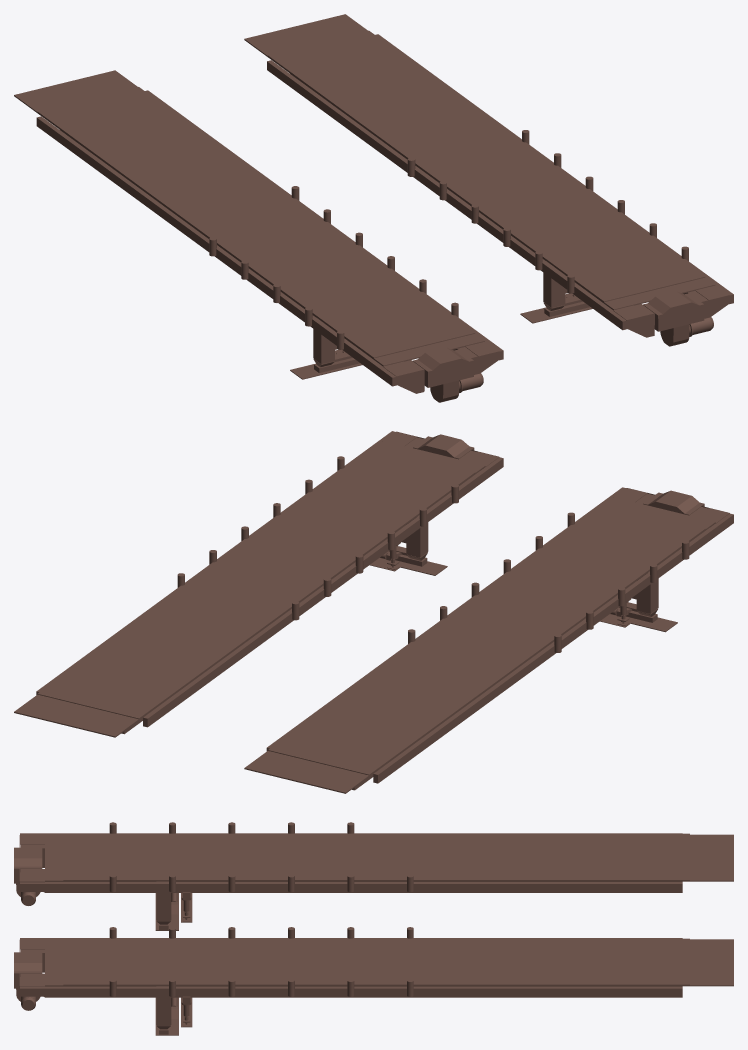
The model's file is GCC-AAV-13220-30.nwd(70).fbx.
The picture shows the model from 3 angles, top to bottom: view 1: azimuth 30°, elevation 25°; view 2: azimuth 150°, elevation 25°; view 3: azimuth 270°, elevation 25°; orthographic projection. The views are drawn at different scales.
Parts seen in each view (by area): view 1: BOX 6 of SUBEQUIPMENT 6 of EQUIPMENT /733-U-303, BOX 6 of SUBEQUIPMENT 6 of EQUIPMENT /733-U-304, BOX 3 of SUBEQUIPMENT 6 of EQUIPMENT /733-U-303, BOX 3 of SUBEQUIPMENT 6 of EQUIPMENT /733-U-304, BOX 5 of SUBEQUIPMENT 6 of EQUIPMENT /733-U-303, BOX 5 of SUBEQUIPMENT 6 of EQUIPMENT /733-U-304, EXTRUSION 3 of SUBEQUIPMENT 6 of EQUIPMENT /733-U-304, EXTRUSION 3 of SUBEQUIPMENT 6 of EQUIPMENT /733-U-303, BOX 4 of SUBEQUIPMENT 6 of EQUIPMENT /733-U-304, BOX 4 of SUBEQUIPMENT 6 of EQUIPMENT /733-U-303; view 2: BOX 6 of SUBEQUIPMENT 6 of EQUIPMENT /733-U-303, BOX 6 of SUBEQUIPMENT 6 of EQUIPMENT /733-U-304, BOX 3 of SUBEQUIPMENT 6 of EQUIPMENT /733-U-303, BOX 3 of SUBEQUIPMENT 6 of EQUIPMENT /733-U-304, BOX 5 of SUBEQUIPMENT 6 of EQUIPMENT /733-U-303, BOX 5 of SUBEQUIPMENT 6 of EQUIPMENT /733-U-304, BOX 4 of SUBEQUIPMENT 6 of EQUIPMENT /733-U-304, BOX 4 of SUBEQUIPMENT 6 of EQUIPMENT /733-U-303, EXTRUSION 3 of SUBEQUIPMENT 6 of EQUIPMENT /733-U-303, EXTRUSION 3 of SUBEQUIPMENT 6 of EQUIPMENT /733-U-304, BOX 5 of SUBEQUIPMENT 2 of EQUIPMENT /733-U-304, BOX 5 of SUBEQUIPMENT 2 of EQUIPMENT /733-U-303; view 3: BOX 6 of SUBEQUIPMENT 6 of EQUIPMENT /733-U-303, BOX 6 of SUBEQUIPMENT 6 of EQUIPMENT /733-U-304, BOX 4 of SUBEQUIPMENT 6 of EQUIPMENT /733-U-304, BOX 4 of SUBEQUIPMENT 6 of EQUIPMENT /733-U-303, BOX 5 of SUBEQUIPMENT 6 of EQUIPMENT /733-U-304, BOX 5 of SUBEQUIPMENT 6 of EQUIPMENT /733-U-303, BOX 2 of SUBEQUIPMENT 6 of EQUIPMENT /733-U-304, BOX 2 of SUBEQUIPMENT 6 of EQUIPMENT /733-U-303, EXTRUSION 3 of SUBEQUIPMENT 6 of EQUIPMENT /733-U-304, EXTRUSION 3 of SUBEQUIPMENT 6 of EQUIPMENT /733-U-303, BOX 3 of SUBEQUIPMENT 6 of EQUIPMENT /733-U-304, BOX 3 of SUBEQUIPMENT 6 of EQUIPMENT /733-U-303 (+2 smaller).
Part boxes in pixels (<box>): BOX 6 of SUBEQUIPMENT 6 of EQUIPMENT /733-U-303: <box>37,87,475,358</box>; BOX 6 of SUBEQUIPMENT 6 of EQUIPMENT /733-U-304: <box>267,30,705,301</box>; BOX 3 of SUBEQUIPMENT 6 of EQUIPMENT /733-U-303: <box>36,116,396,386</box>; BOX 3 of SUBEQUIPMENT 6 of EQUIPMENT /733-U-304: <box>267,60,626,330</box>; BOX 5 of SUBEQUIPMENT 6 of EQUIPMENT /733-U-303: <box>14,70,484,366</box>; BOX 5 of SUBEQUIPMENT 6 of EQUIPMENT /733-U-304: <box>244,14,715,310</box>; EXTRUSION 3 of SUBEQUIPMENT 6 of EQUIPMENT /733-U-304: <box>643,291,704,331</box>; EXTRUSION 3 of SUBEQUIPMENT 6 of EQUIPMENT /733-U-303: <box>413,347,473,387</box>; BOX 4 of SUBEQUIPMENT 6 of EQUIPMENT /733-U-304: <box>375,34,733,304</box>; BOX 4 of SUBEQUIPMENT 6 of EQUIPMENT /733-U-303: <box>145,90,503,360</box>; BOX 6 of SUBEQUIPMENT 6 of EQUIPMENT /733-U-303: <box>268,503,705,775</box>; BOX 6 of SUBEQUIPMENT 6 of EQUIPMENT /733-U-304: <box>37,447,475,719</box>; BOX 3 of SUBEQUIPMENT 6 of EQUIPMENT /733-U-303: <box>373,513,733,783</box>; BOX 3 of SUBEQUIPMENT 6 of EQUIPMENT /733-U-304: <box>143,457,503,727</box>; BOX 5 of SUBEQUIPMENT 6 of EQUIPMENT /733-U-303: <box>244,497,715,793</box>; BOX 5 of SUBEQUIPMENT 6 of EQUIPMENT /733-U-304: <box>14,441,485,737</box>; BOX 4 of SUBEQUIPMENT 6 of EQUIPMENT /733-U-304: <box>36,431,395,694</box>; BOX 4 of SUBEQUIPMENT 6 of EQUIPMENT /733-U-303: <box>266,487,625,751</box>; EXTRUSION 3 of SUBEQUIPMENT 6 of EQUIPMENT /733-U-303: <box>643,490,704,515</box>; EXTRUSION 3 of SUBEQUIPMENT 6 of EQUIPMENT /733-U-304: <box>413,434,474,459</box>; BOX 5 of SUBEQUIPMENT 2 of EQUIPMENT /733-U-304: <box>406,511,428,557</box>; BOX 5 of SUBEQUIPMENT 2 of EQUIPMENT /733-U-303: <box>636,571,658,613</box>; BOX 6 of SUBEQUIPMENT 6 of EQUIPMENT /733-U-303: <box>63,833,689,880</box>; BOX 6 of SUBEQUIPMENT 6 of EQUIPMENT /733-U-304: <box>63,938,689,985</box>; BOX 4 of SUBEQUIPMENT 6 of EQUIPMENT /733-U-304: <box>20,986,682,996</box>; BOX 4 of SUBEQUIPMENT 6 of EQUIPMENT /733-U-303: <box>20,882,682,891</box>; BOX 5 of SUBEQUIPMENT 6 of EQUIPMENT /733-U-304: <box>45,939,733,986</box>; BOX 5 of SUBEQUIPMENT 6 of EQUIPMENT /733-U-303: <box>45,834,733,881</box>; BOX 2 of SUBEQUIPMENT 6 of EQUIPMENT /733-U-304: <box>20,973,682,997</box>; BOX 2 of SUBEQUIPMENT 6 of EQUIPMENT /733-U-303: <box>20,869,682,892</box>; EXTRUSION 3 of SUBEQUIPMENT 6 of EQUIPMENT /733-U-304: <box>14,952,42,988</box>; EXTRUSION 3 of SUBEQUIPMENT 6 of EQUIPMENT /733-U-303: <box>14,847,42,883</box>; BOX 3 of SUBEQUIPMENT 6 of EQUIPMENT /733-U-304: <box>20,938,682,939</box>; BOX 3 of SUBEQUIPMENT 6 of EQUIPMENT /733-U-303: <box>20,833,682,834</box>.
Bounding box in the file's own units: 310 × 49.47 × 572.
